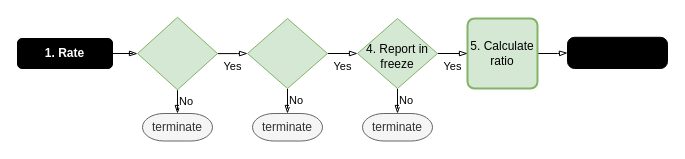
Some shapes in this 685 by 159 pixel diagram are drawn without their labels. The centre of each missing label's shape, as x and y in pixels:
"2. Report exists" goes at point 177,53.
"3. Report expired" goes at point 287,53.
"6. Update report" goes at point 617,52.
